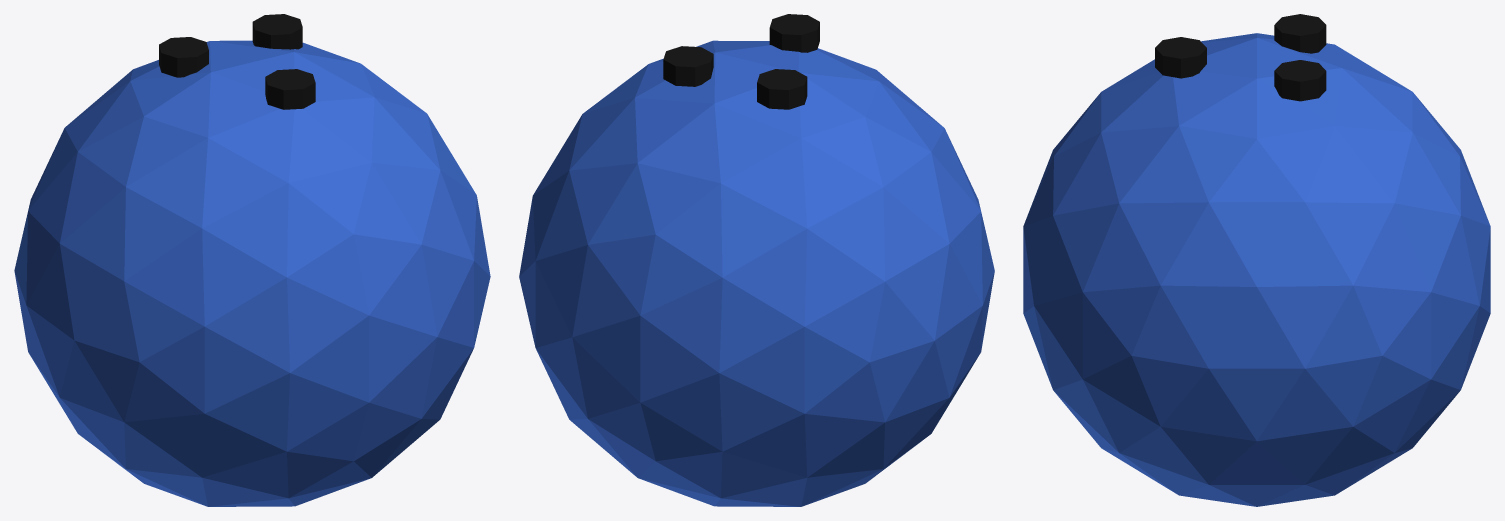
Rendered from bowling_ball.glb.
3 renders of one model, left to right at view 1: azimuth 30°, elevation 25°; view 2: azimuth 150°, elevation 25°; view 3: azimuth 270°, elevation 25°, orthographic.
Visible parts, largest first — view 1: ball_ball_blue, hole_ball_hole; view 2: ball_ball_blue, hole_ball_hole; view 3: ball_ball_blue, hole_ball_hole.
Part boxes in pixels (x1,y1,x2,y2): ball_ball_blue: [14, 40, 490, 506]; hole_ball_hole: [159, 14, 315, 109]; ball_ball_blue: [519, 40, 994, 506]; hole_ball_hole: [663, 14, 819, 109]; ball_ball_blue: [1023, 33, 1490, 506]; hole_ball_hole: [1155, 14, 1326, 101].
Bounding box in the file's own units: 0.2155 × 0.2207 × 0.2155.
